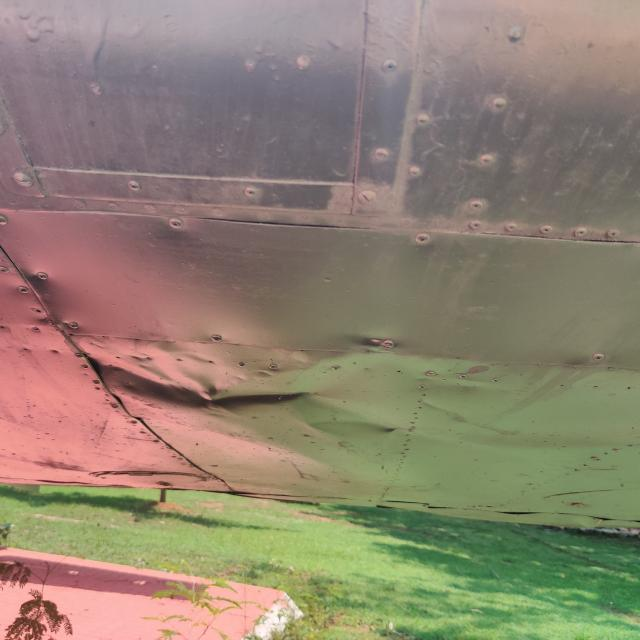dent: (73, 324, 344, 431)
